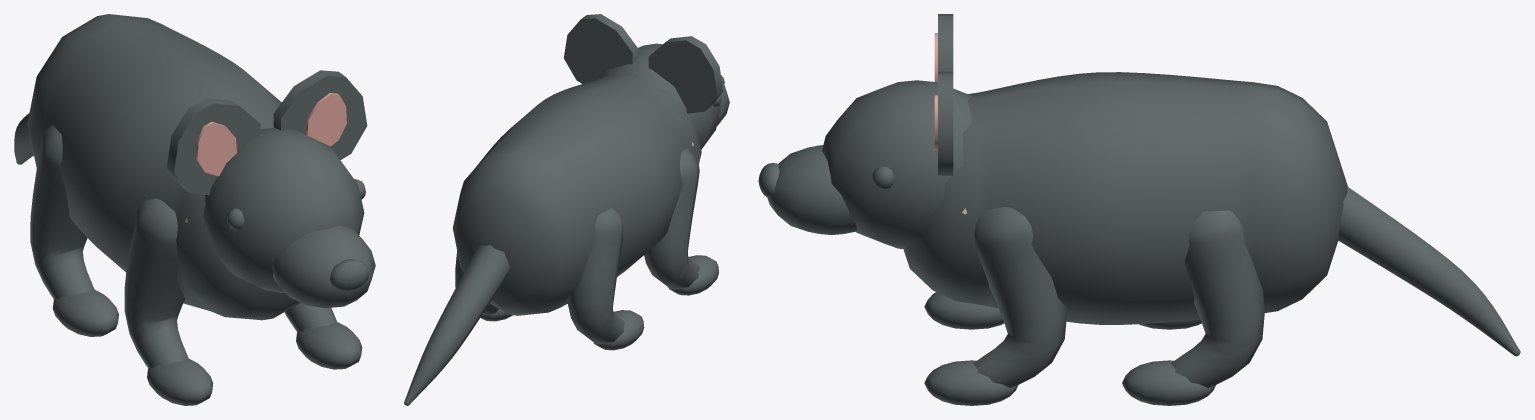
Rendered from outback-and-australian-wildlife-tasmanian-devil-3721d23e__5910.glb.
3 views of the same model, side by side, from view 1: azimuth 30°, elevation 25°; view 2: azimuth 150°, elevation 25°; view 3: azimuth 270°, elevation 25° (orthographic). The views are drawn at different scales.
Parts seen in each view (by area): view 1: tasmanian-devil; view 2: tasmanian-devil; view 3: tasmanian-devil.
Boxes of the visible parts, bbox=[...] form: tasmanian-devil: bbox=[14, 14, 375, 405]; tasmanian-devil: bbox=[404, 14, 729, 405]; tasmanian-devil: bbox=[758, 14, 1520, 405].
Size of the model in its own units: 0.3999 by 0.5753 by 1.25.
